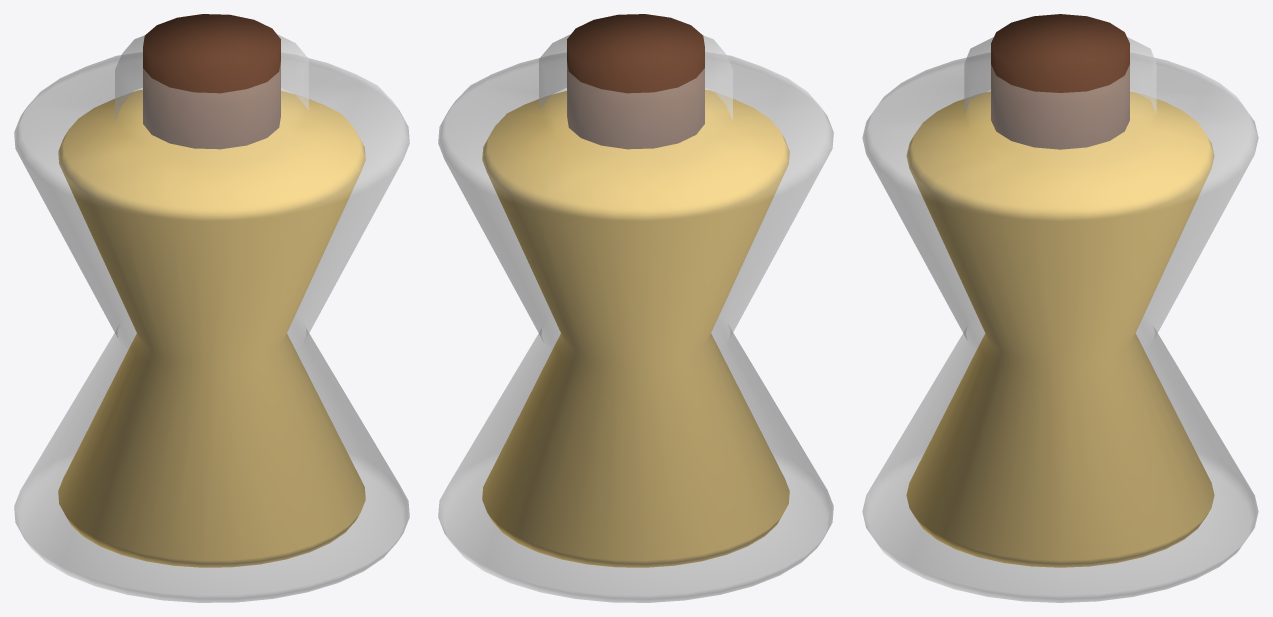
Rendered from ConcavePotionClosed.fbx.
3 renders of one model, left to right at view 1: azimuth 30°, elevation 25°; view 2: azimuth 150°, elevation 25°; view 3: azimuth 270°, elevation 25°, orthographic.
Visible parts, largest first — view 1: ConcavePotionClosed; view 2: ConcavePotionClosed; view 3: ConcavePotionClosed.
Boxes of the visible parts, x1,y1,x2,y2 form: ConcavePotionClosed: (14,14,409,602); ConcavePotionClosed: (438,14,833,602); ConcavePotionClosed: (862,14,1258,602).
Bounding box in the file's own units: 156 × 209 × 156.
